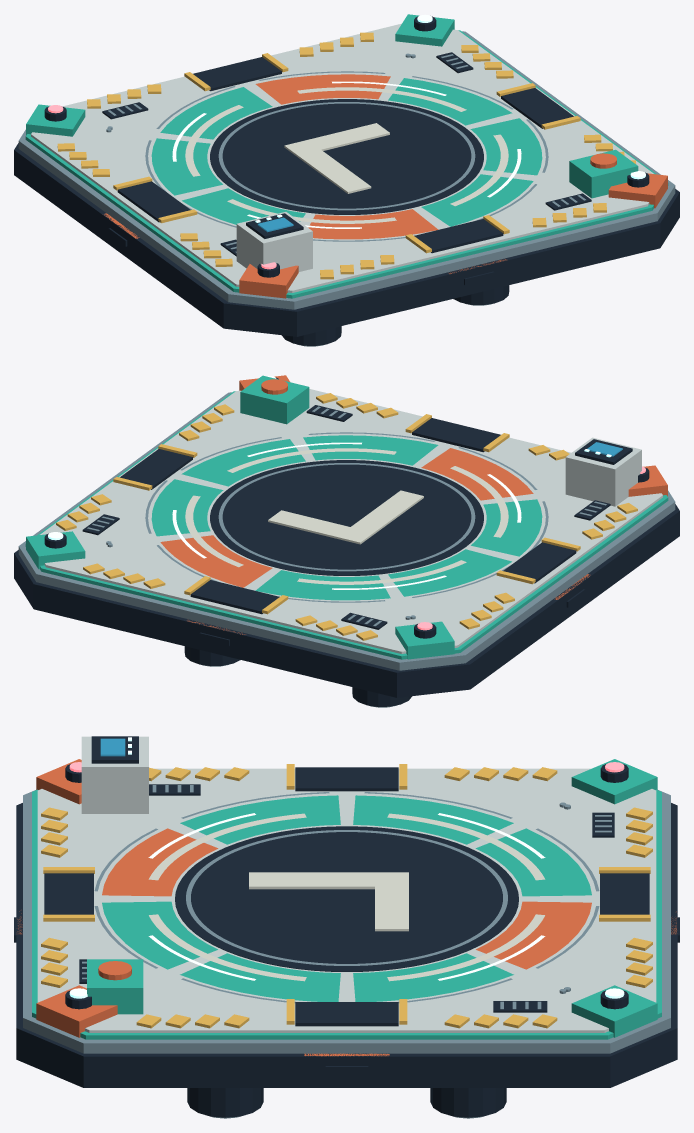
File: LandingPad_MkII.glb
3 renders of one model, top to bottom at view 1: azimuth 30°, elevation 25°; view 2: azimuth 150°, elevation 25°; view 3: azimuth 270°, elevation 25°, orthographic. The views are drawn at different scales.
Visible parts, largest first — view 1: Deck, Chassis (×2), Touchdown plate (×2), Deck plating (×3), Docking apron (×2), Landing markings, Corner fender (×2), Hazard markings, Deck edge, Service console (×2), Fuel coupling, Attitude thrusters (+3 smaller); view 2: Deck, Chassis (×2), Touchdown plate (×2), Deck plating (×3), Docking apron (×2), Landing markings, Hazard markings, Deck edge, Service console (×2), Corner fender (×2), Fuel coupling, Service hatches (+3 smaller); view 3: Deck, Chassis (×2), Touchdown plate (×2), Deck plating (×3), Docking apron (×2), Landing markings, Hazard markings, Corner fender (×2), Deck edge, Service console (×2), Attitude thrusters, Fuel coupling (+3 smaller).
Part boxes in pixels (<box>): Deck: <box>31,23,653,292</box>; Chassis (×2): <box>14,31,679,336</box>; Touchdown plate (×2): <box>210,99,483,214</box>; Deck plating (×3): <box>145,71,548,241</box>; Docking apron (×2): <box>113,53,580,253</box>; Landing markings: <box>185,87,508,223</box>; Corner fender (×2): <box>26,14,667,298</box>; Hazard markings: <box>57,32,635,279</box>; Deck edge: <box>25,30,668,298</box>; Service console (×2): <box>236,212,312,271</box>; Fuel coupling: <box>569,149,638,198</box>; Attitude thrusters: <box>282,285,509,345</box>; Deck: <box>40,389,662,653</box>; Chassis (×2): <box>14,392,679,697</box>; Touchdown plate (×2): <box>210,460,483,575</box>; Deck plating (×3): <box>145,432,548,602</box>; Docking apron (×2): <box>113,414,580,614</box>; Landing markings: <box>185,448,508,584</box>; Hazard markings: <box>56,393,637,640</box>; Deck edge: <box>25,391,668,659</box>; Service console (×2): <box>565,437,641,506</box>; Corner fender (×2): <box>26,375,667,659</box>; Fuel coupling: <box>240,375,309,424</box>; Service hatches: <box>82,405,610,629</box>; Deck: <box>37,768,656,1032</box>; Chassis (×2): <box>16,790,677,1087</box>; Touchdown plate (×2): <box>175,826,518,971</box>; Deck plating (×3): <box>94,792,599,1002</box>; Docking apron (×2): <box>43,764,650,1026</box>; Landing markings: <box>148,813,545,981</box>; Hazard markings: <box>41,767,652,1028</box>; Corner fender (×2): <box>36,759,657,1037</box>; Deck edge: <box>32,789,661,1039</box>; Service console (×2): <box>81,736,148,813</box>; Attitude thrusters: <box>187,1088,506,1117</box>; Fuel coupling: <box>87,959,143,1014</box>.
Size of the model in its own units: 2.96 by 1.03 by 2.96.
